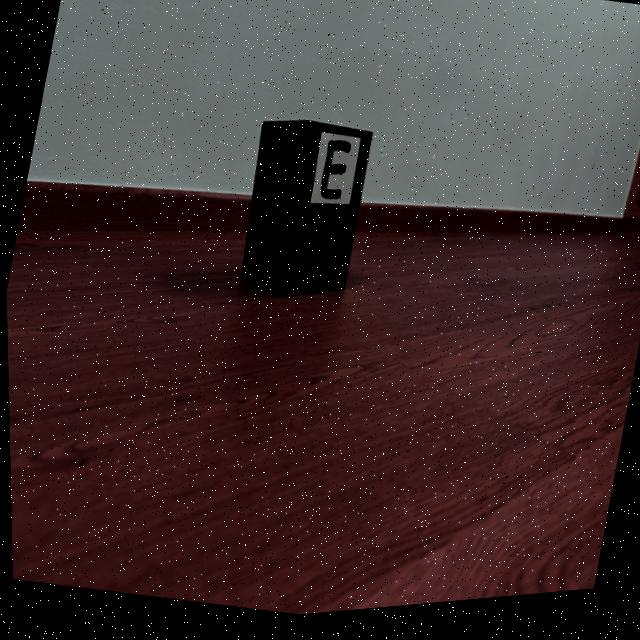E: (319, 146, 350, 205)
